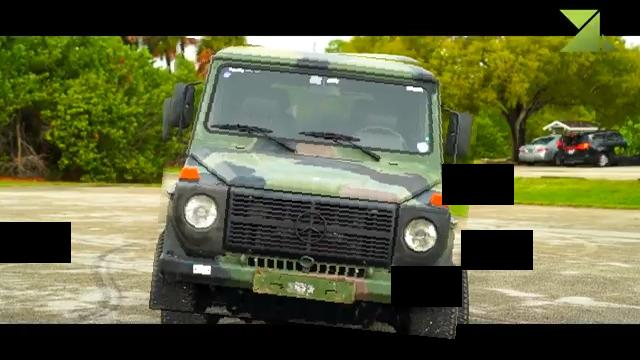MIL_HMMWV: (155, 45, 477, 334), (559, 129, 633, 165), (518, 135, 564, 165)
